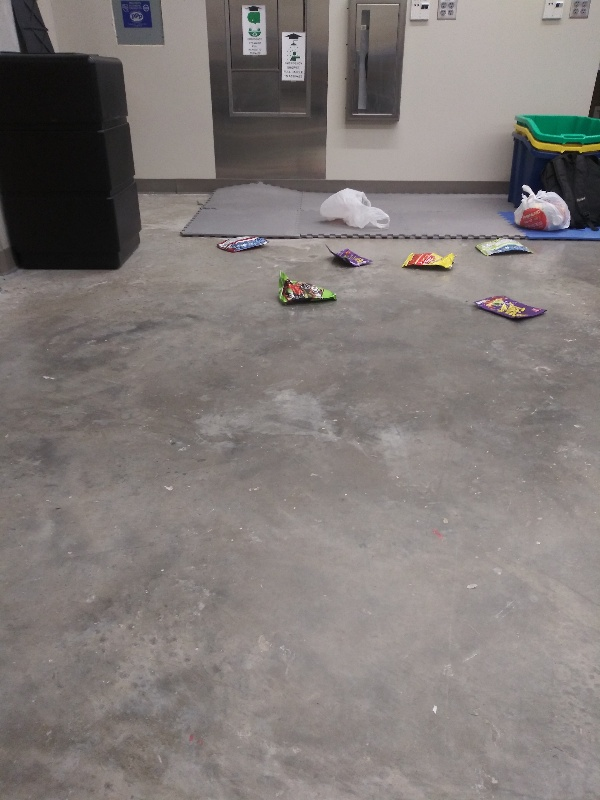bag: (470, 290, 552, 326), (273, 268, 342, 309), (396, 249, 462, 274), (472, 234, 536, 258), (323, 240, 376, 268), (214, 234, 273, 255)
